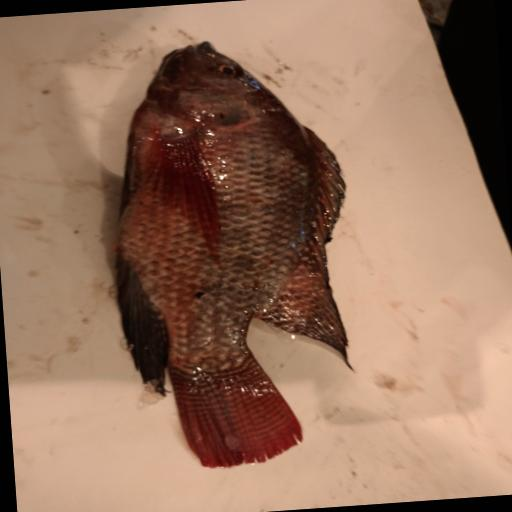Tilapia: (98, 31, 365, 475)
